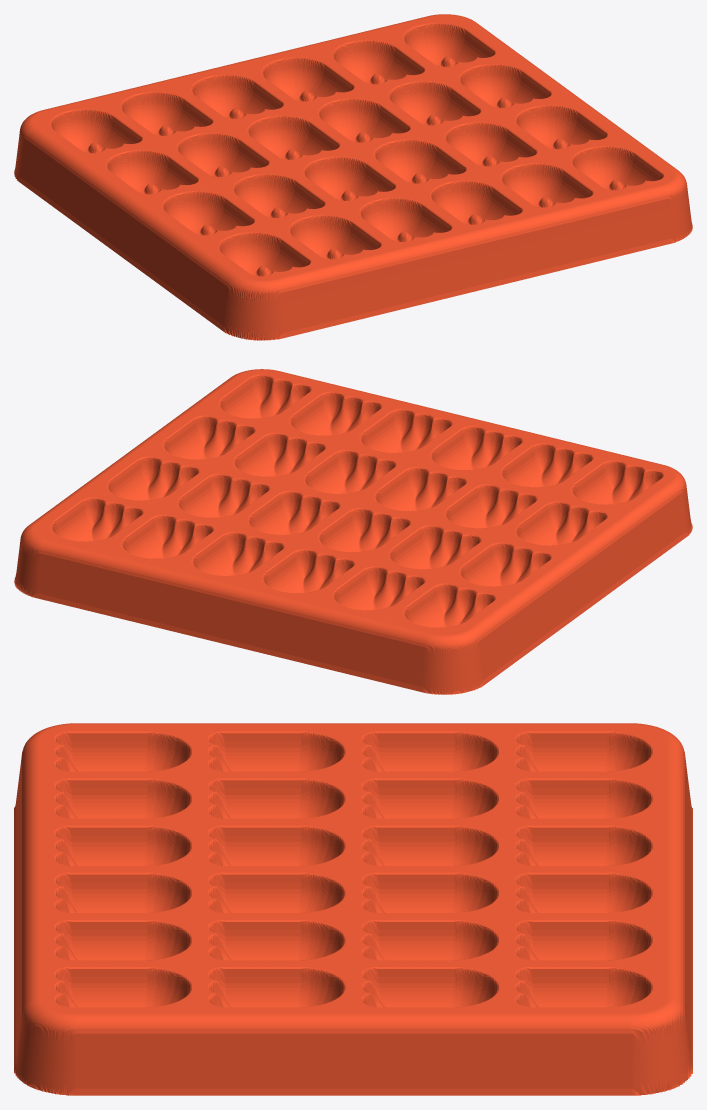
Rendered from mold.glb.
3 views of the same model, one above another, from view 1: azimuth 30°, elevation 25°; view 2: azimuth 150°, elevation 25°; view 3: azimuth 270°, elevation 25° (orthographic). The views are drawn at different scales.
Visible parts, largest first — view 1: geometry_0; view 2: geometry_0; view 3: geometry_0.
Part boxes in pixels (left/top/right/bottom): geometry_0: left=14, top=14, right=692, bottom=340; geometry_0: left=14, top=369, right=692, bottom=694; geometry_0: left=14, top=723, right=692, bottom=1095.
Bounding box in the file's own units: 0.1059 × 0.0114 × 0.098.
